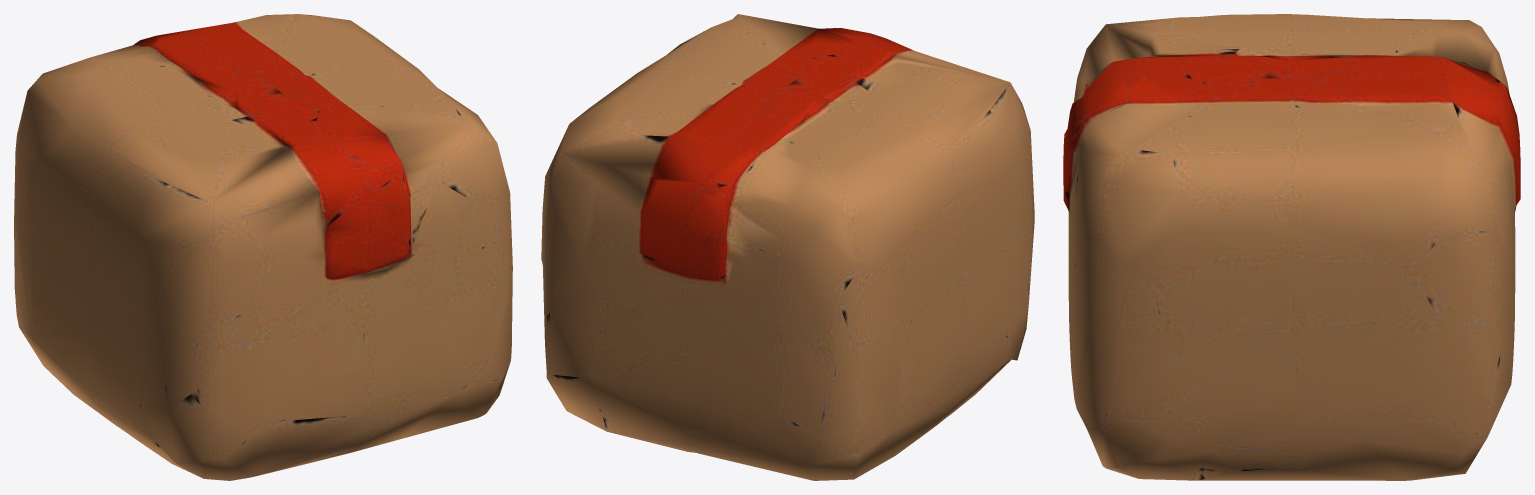
The model's file is deco-box.glb.
3 renders of one model, left to right at view 1: azimuth 30°, elevation 25°; view 2: azimuth 150°, elevation 25°; view 3: azimuth 270°, elevation 25°, orthographic. The views are drawn at different scales.
Parts seen in each view (by area): view 1: tripo_node_eea9a68e-f12b-468f-8cb0-ade9b569b0db; view 2: tripo_node_eea9a68e-f12b-468f-8cb0-ade9b569b0db; view 3: tripo_node_eea9a68e-f12b-468f-8cb0-ade9b569b0db.
Part boxes in pixels (bbox=[...]): tripo_node_eea9a68e-f12b-468f-8cb0-ade9b569b0db: bbox=[14, 14, 512, 480]; tripo_node_eea9a68e-f12b-468f-8cb0-ade9b569b0db: bbox=[541, 14, 1034, 480]; tripo_node_eea9a68e-f12b-468f-8cb0-ade9b569b0db: bbox=[1063, 14, 1520, 480].
Size of the model in its own units: 0.9309 by 0.8036 by 0.98.
1 material, 1 textured.
